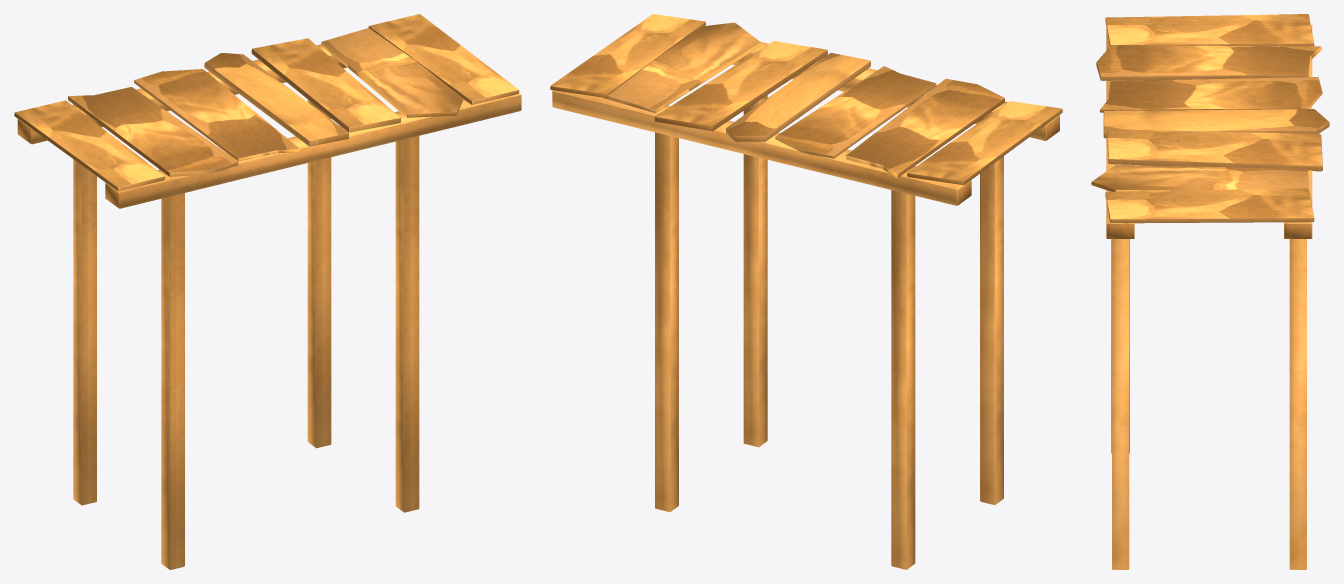
The model's file is SM_Dock_Small_Broke.fbx.
The picture shows the model from 3 angles, left to right: view 1: azimuth 30°, elevation 25°; view 2: azimuth 150°, elevation 25°; view 3: azimuth 270°, elevation 25°; orthographic projection.
Visible parts, largest first — view 1: SM_Dock_Small_Broke_LOD0; view 2: SM_Dock_Small_Broke_LOD0; view 3: SM_Dock_Small_Broke_LOD0.
Part boxes in pixels (<box>): SM_Dock_Small_Broke_LOD0: <box>14,14,521,569</box>; SM_Dock_Small_Broke_LOD0: <box>550,14,1062,569</box>; SM_Dock_Small_Broke_LOD0: <box>1091,14,1329,569</box>.
Bounding box in the file's own units: 490 × 245 × 460.
